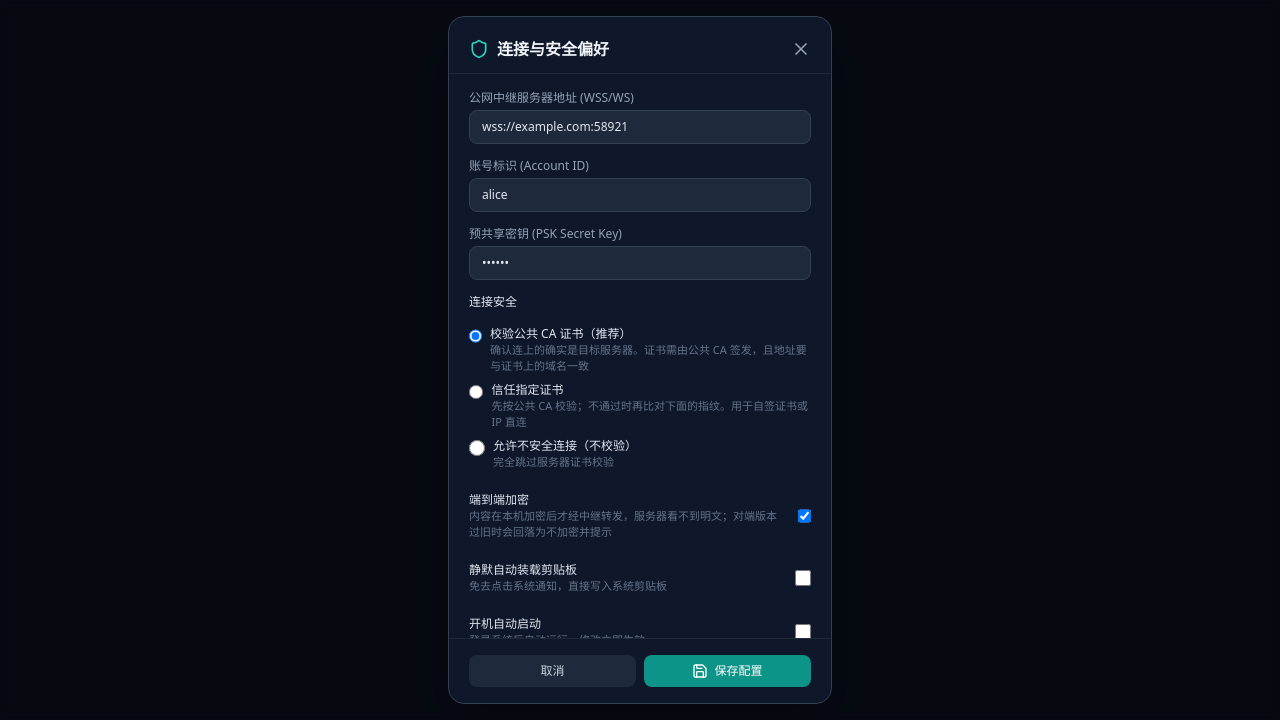
Test case: 账号标识校验 › 连接安全三档 › 选到「允许不安全连接」才出现中间人警告
Click the radio button labelled "允许不安全连接（不校验） 完全跳过服务器证书校验". click: (477, 448)
box: [469, 440, 485, 456]
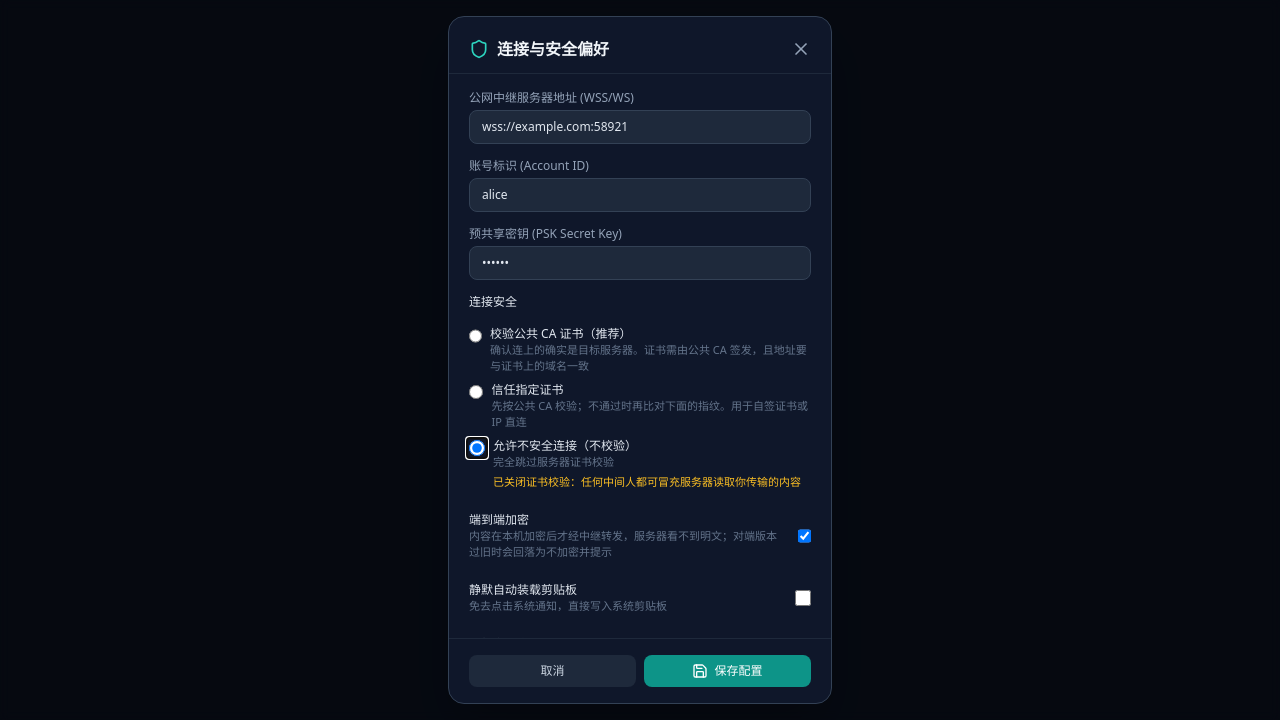
Now the text "已关闭证书校验：任何中间人都可冒充服务器读取你传输的内容" is shown, box [493, 474, 801, 490]
